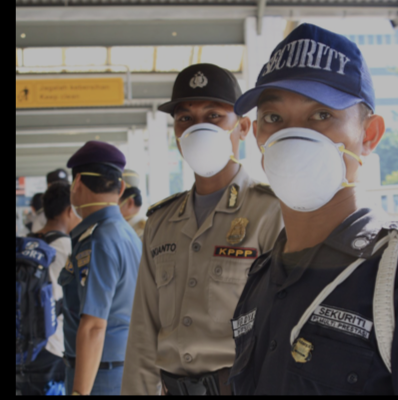with_mask: (254, 92, 362, 214), (172, 102, 238, 179)
